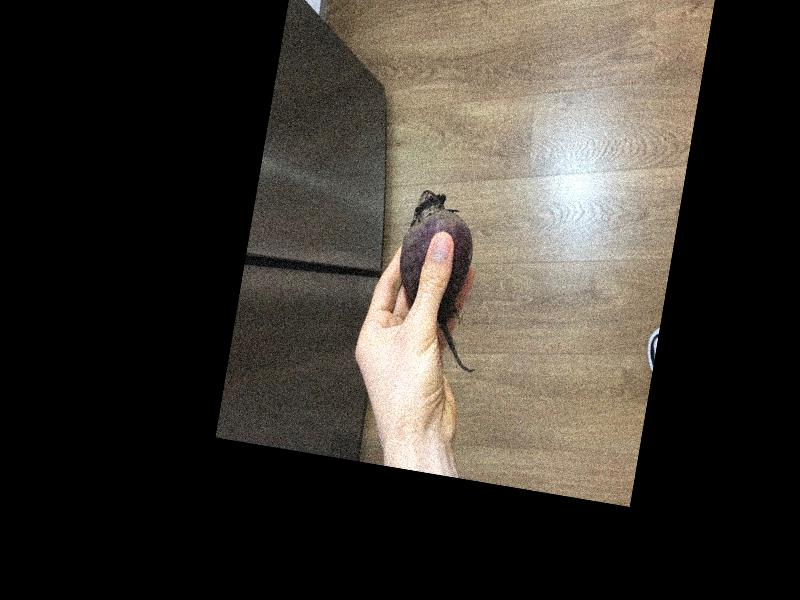Beet: (383, 186, 503, 371)
